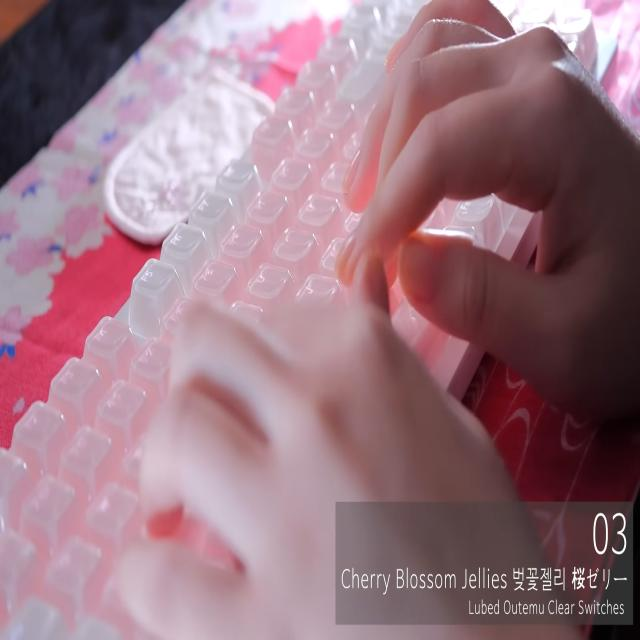keyboard-with-hands: (0, 0, 618, 640)
